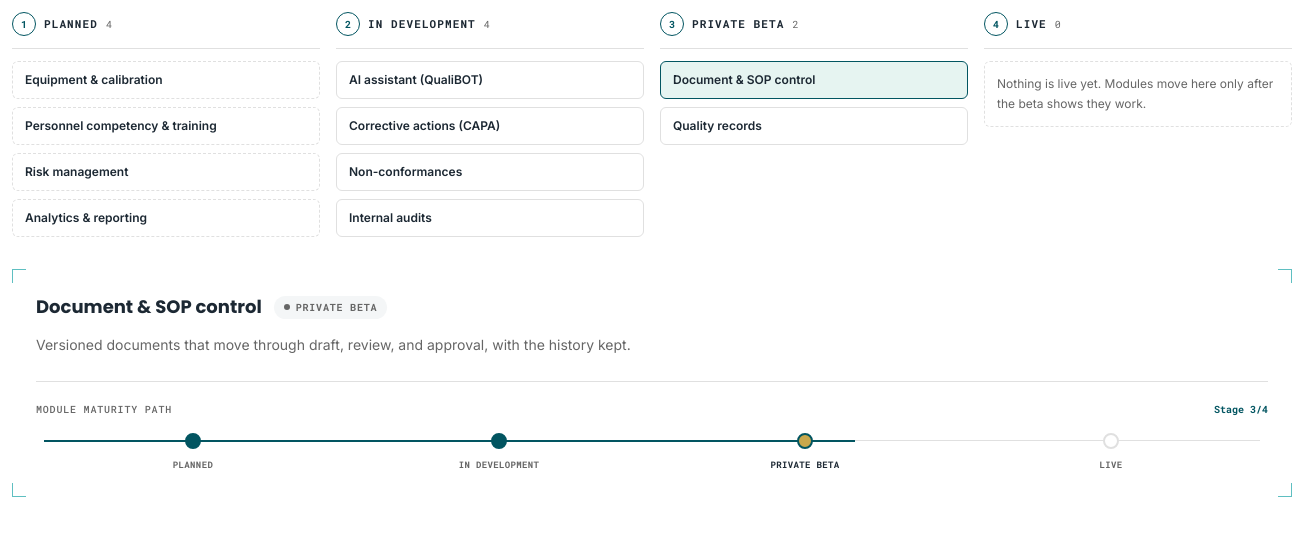
ModuleMap › shows the selected module with its stage, and keeps QualiBOT out of the beta
Step 1. Click the button with test id "row-capability-ai-assistant-qualibot-" → point(416, 80), box [336, 61, 644, 99]
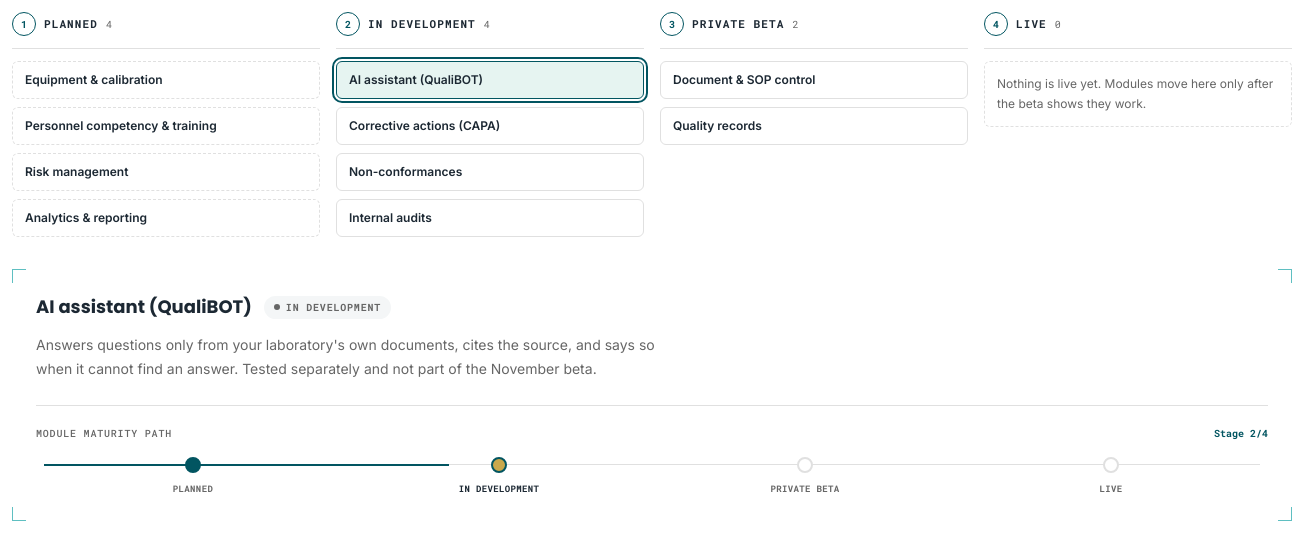
Now the text "not part of the november beta" is shown, box [36, 336, 655, 377]
Now the element with test id "status-badge-in-development" is shown, box [264, 296, 391, 318]
Now the element with test id "module-maturity-path" shows "Stage 2/4", box [36, 405, 1268, 497]
